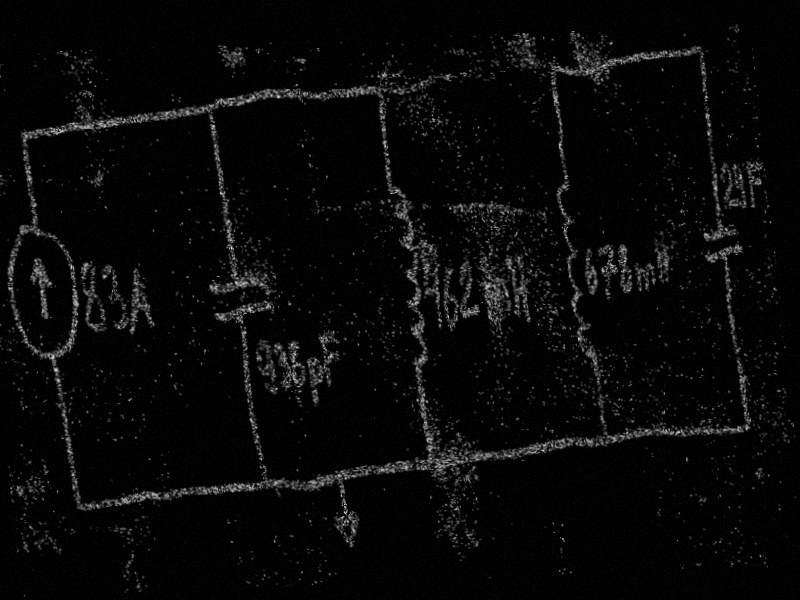2: (454, 259, 482, 321), (717, 160, 737, 211)
3: (99, 263, 130, 333), (272, 338, 294, 393)
4: (419, 256, 445, 332)
6: (436, 262, 463, 334), (581, 246, 601, 299)
7: (594, 242, 622, 304)
8: (77, 258, 109, 337), (286, 335, 309, 391), (615, 241, 635, 297)
9: (251, 336, 280, 400), (731, 161, 748, 211)
A: (121, 262, 158, 334)
F: (317, 330, 344, 389), (744, 157, 768, 211)
H: (505, 255, 533, 325), (651, 233, 672, 287)
m: (479, 276, 514, 321), (631, 260, 658, 296)
p: (304, 356, 329, 411)
